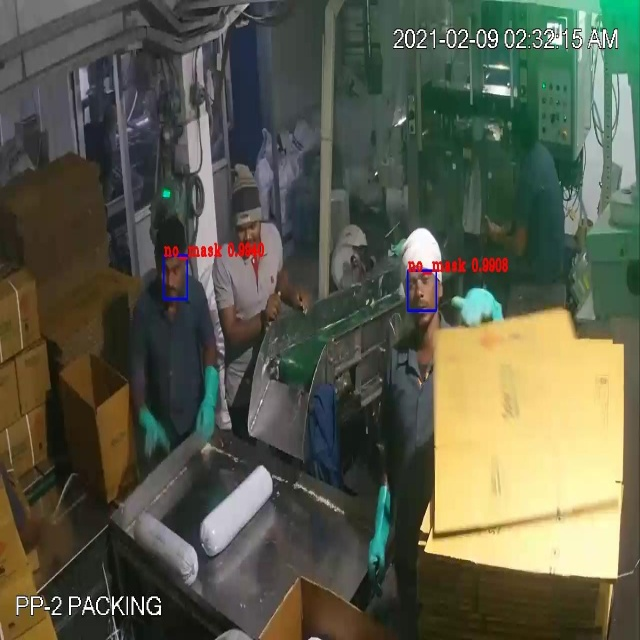Guantes: (352, 470, 399, 596), (126, 366, 178, 476), (448, 277, 506, 332), (189, 365, 225, 449)
Sin_guantes: (210, 291, 290, 348), (478, 205, 535, 260), (271, 262, 318, 315)
